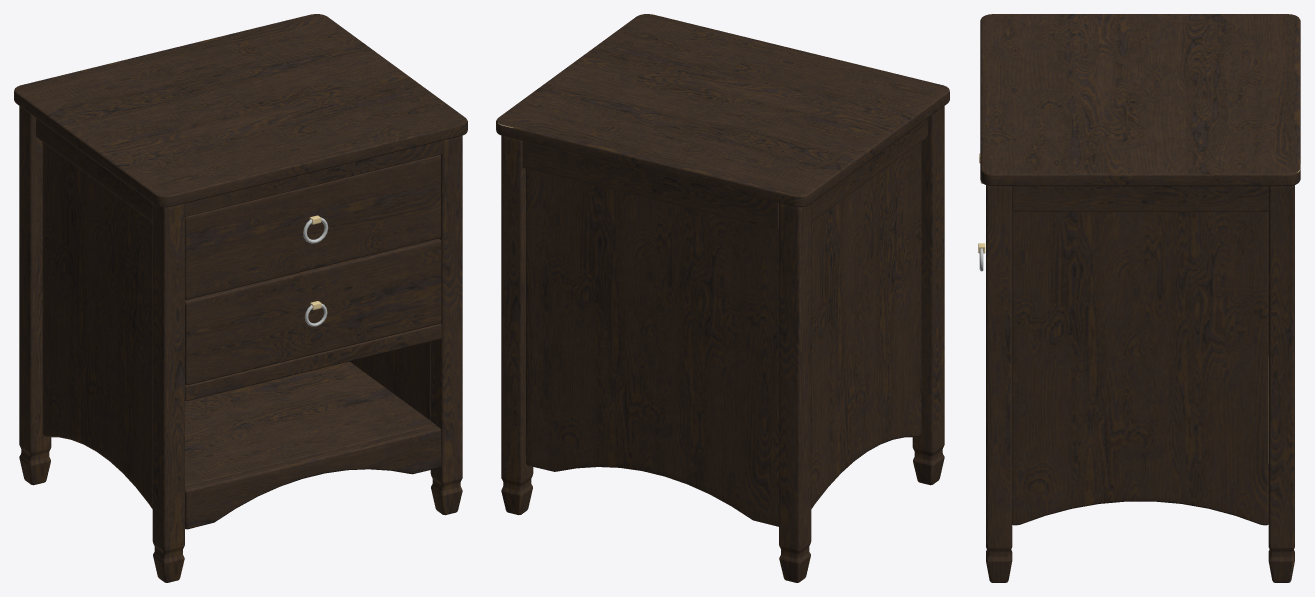
Rendered from nightstand.glb.
The picture shows the model from 3 angles, left to right: view 1: azimuth 30°, elevation 25°; view 2: azimuth 150°, elevation 25°; view 3: azimuth 270°, elevation 25°; orthographic projection. The views are drawn at different scales.
Visible parts, largest first — view 1: Varnish Wenge BedSide Table; view 2: Varnish Wenge BedSide Table; view 3: Varnish Wenge BedSide Table.
Boxes of the visible parts, <box> form: Varnish Wenge BedSide Table: <box>14,14,467,582</box>; Varnish Wenge BedSide Table: <box>496,14,949,582</box>; Varnish Wenge BedSide Table: <box>978,14,1300,582</box>.
Bounding box in the file's own units: 0.7886 × 0.9463 × 0.6663.
1 material, 1 textured.
